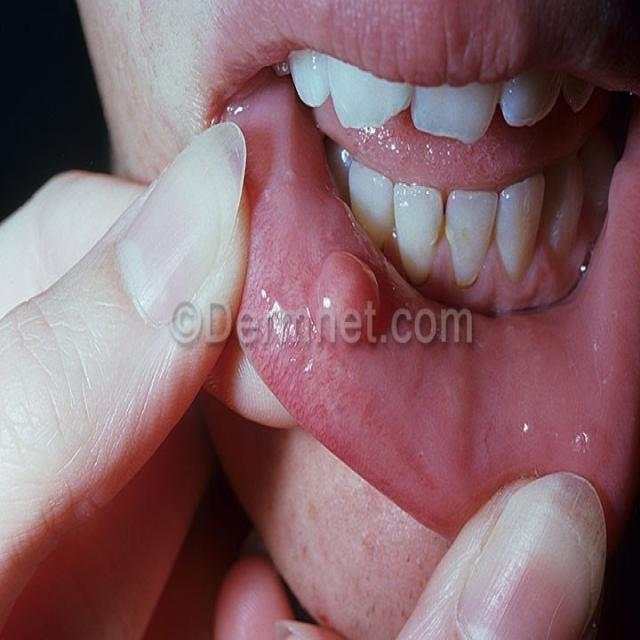Eczema: (302, 250, 393, 347)
